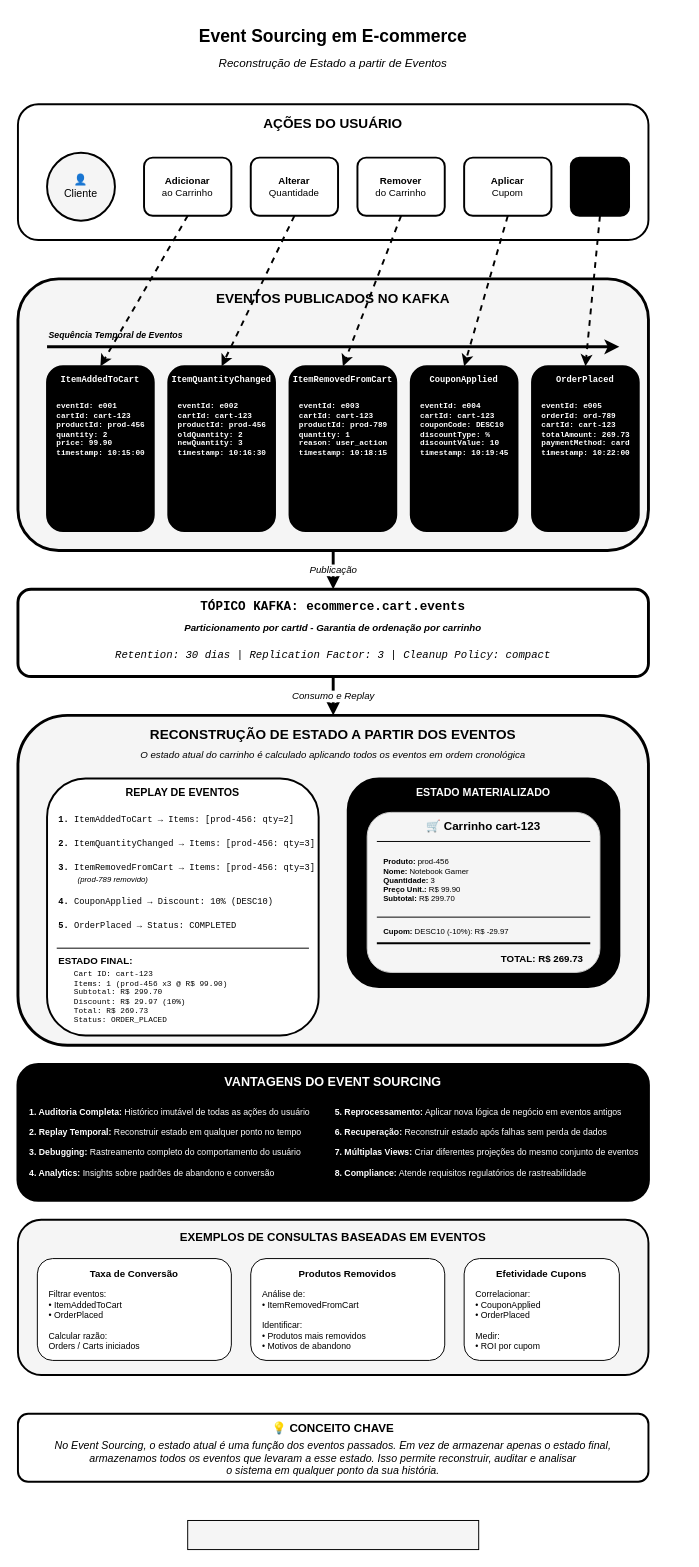
Image size: 699x1567. Some labels were removed from this diagram. Here are the shapes that lost their labels. From the top down, the centre of each, then its label:
At point 599,186: "Finalizar Compra".
At point 333,1535: "Estado(t) = Replay(Eventos[0..t])".
